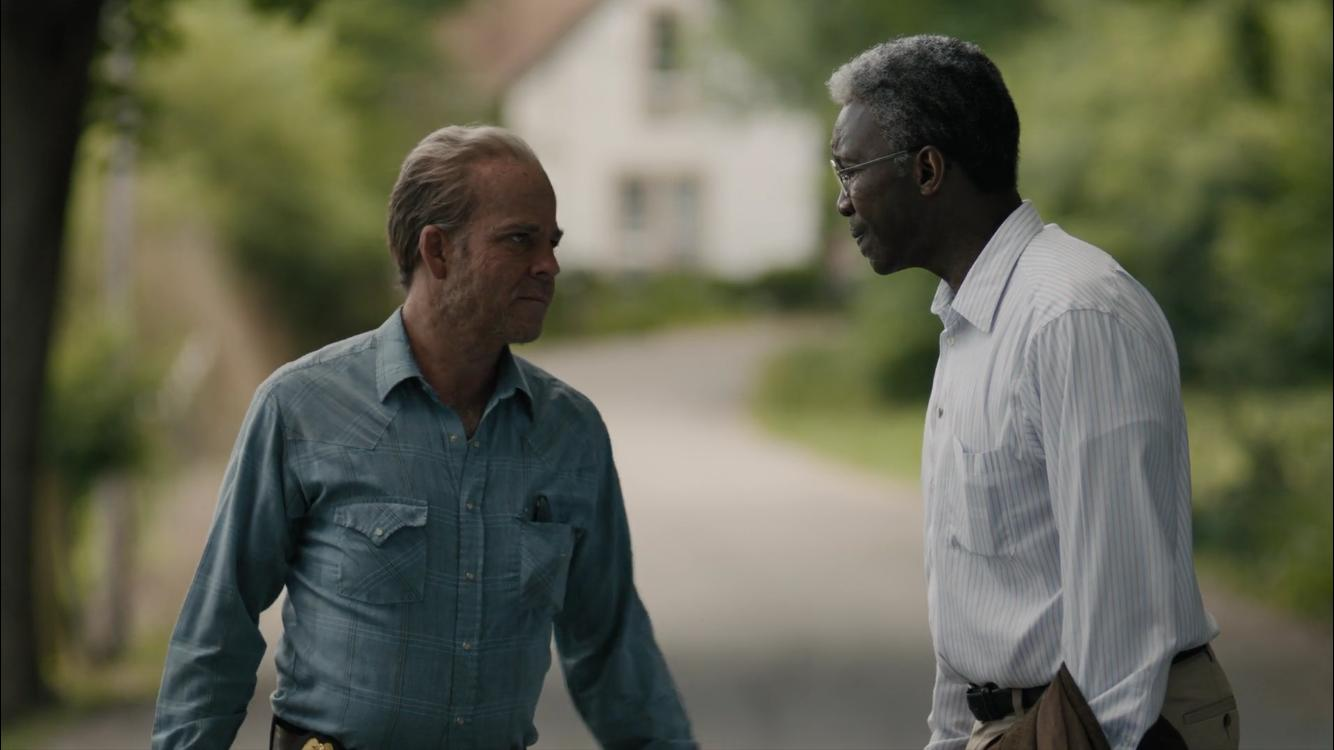person: (200, 121, 715, 750), (819, 24, 1233, 747)
